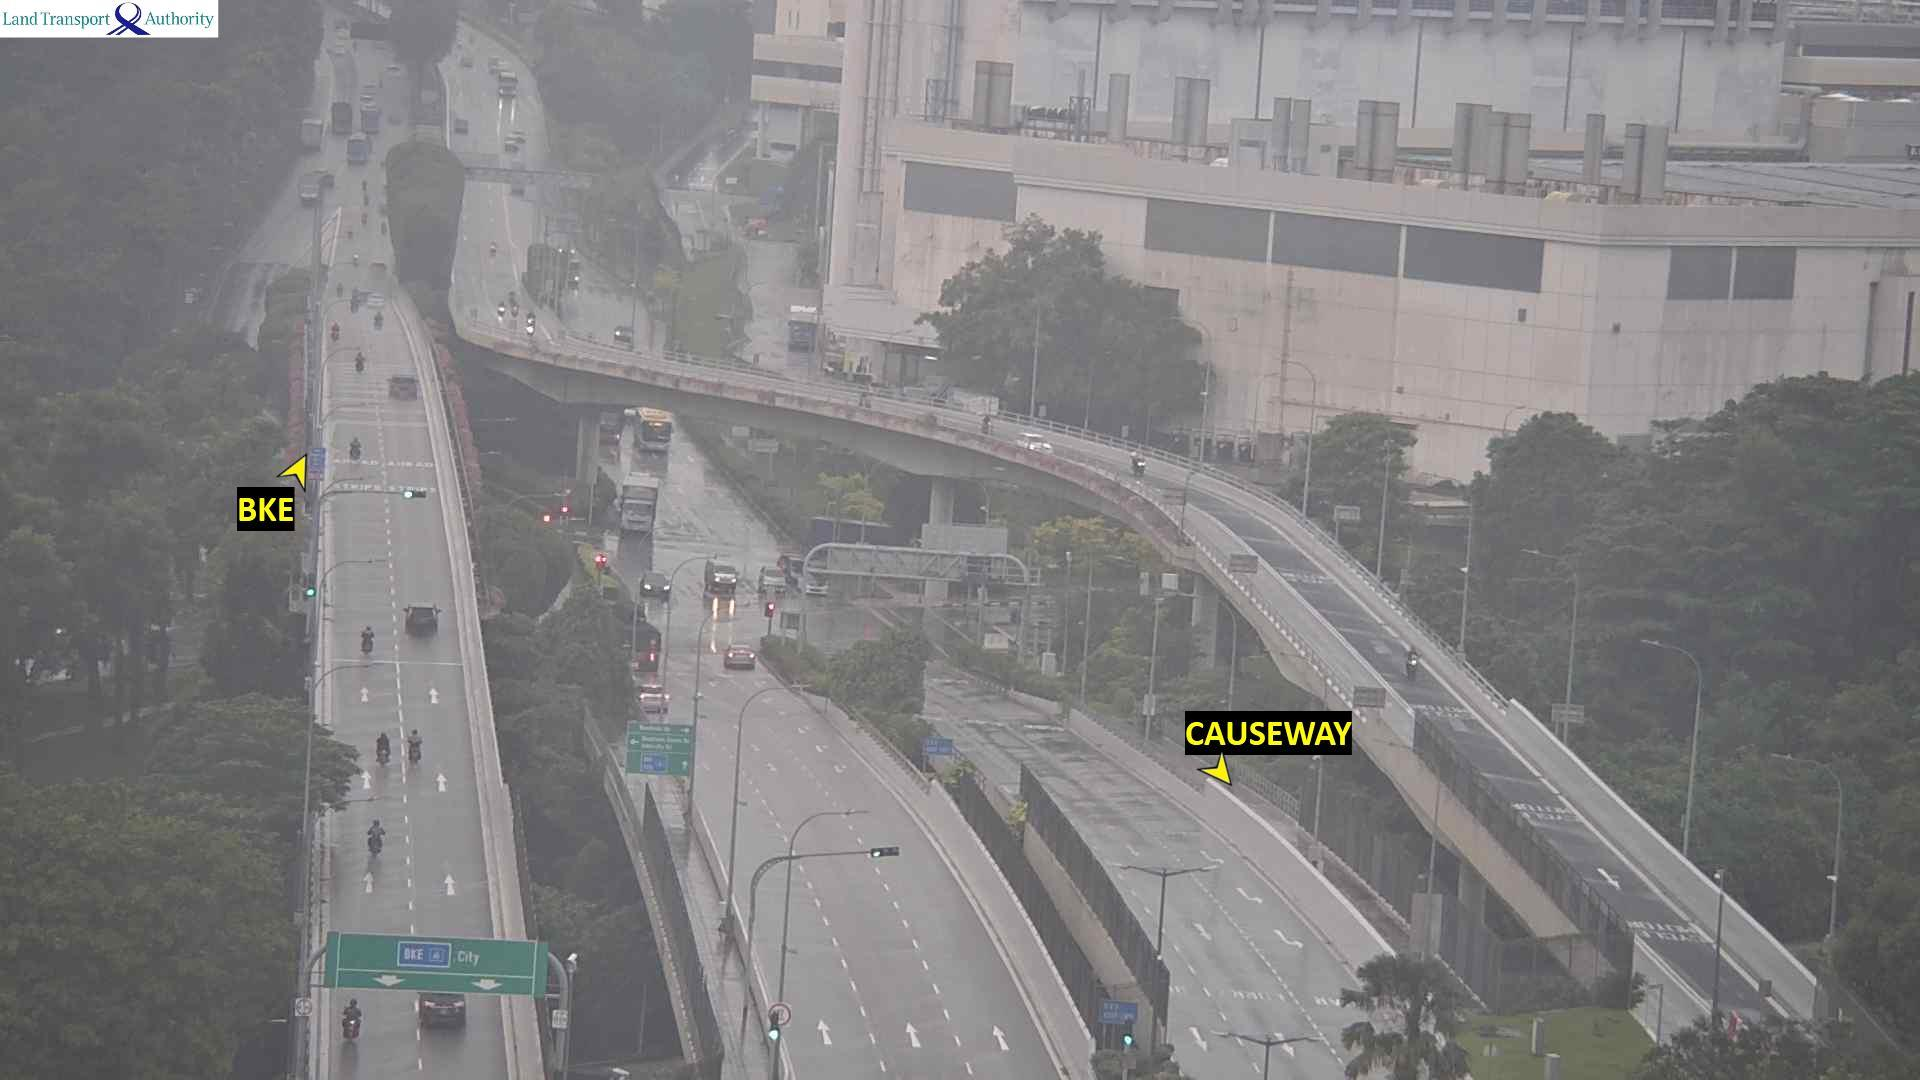vehicle-causeway-johor: (637, 410, 671, 451), (707, 570, 738, 600), (1017, 430, 1050, 456), (760, 566, 785, 593), (800, 578, 828, 595), (1407, 642, 1418, 678), (1135, 456, 1146, 476), (496, 306, 512, 319), (980, 417, 990, 427), (861, 394, 870, 406), (493, 243, 501, 255)
vehicle-causeway-singapore: (419, 998, 463, 1030), (404, 604, 443, 634), (725, 650, 758, 674), (342, 1000, 361, 1039), (393, 373, 415, 400), (369, 816, 385, 853), (638, 645, 663, 666), (637, 684, 663, 704), (377, 731, 389, 766), (407, 732, 422, 761), (357, 629, 371, 654), (371, 258, 389, 276), (361, 355, 373, 372), (352, 436, 361, 456), (371, 293, 385, 305), (527, 314, 534, 332), (332, 323, 339, 340), (377, 313, 384, 328), (335, 284, 343, 294)
